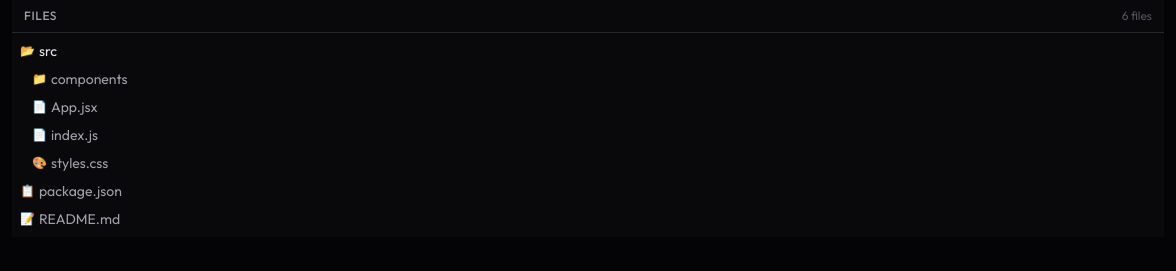
Test: FileBrowser › directory toggling › toggles directory expansion when clicked
The image size is (1176, 271).
Note: Click to expand components
Click the text "components" at point(89, 79), box [51,69,127,89]
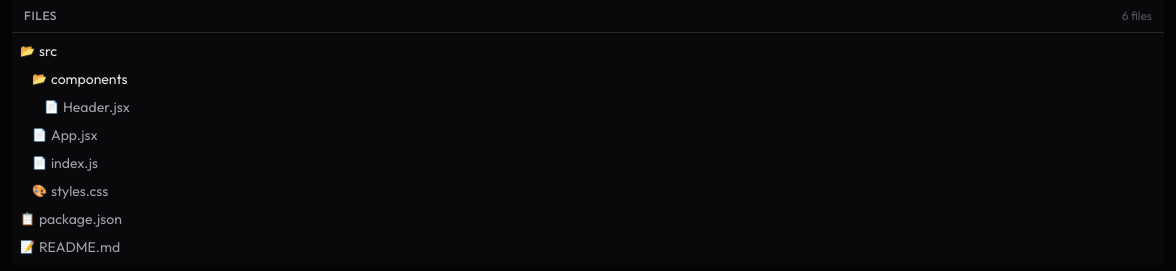
Expected: the text "Header.jsx" is shown, [63,97,130,117]
